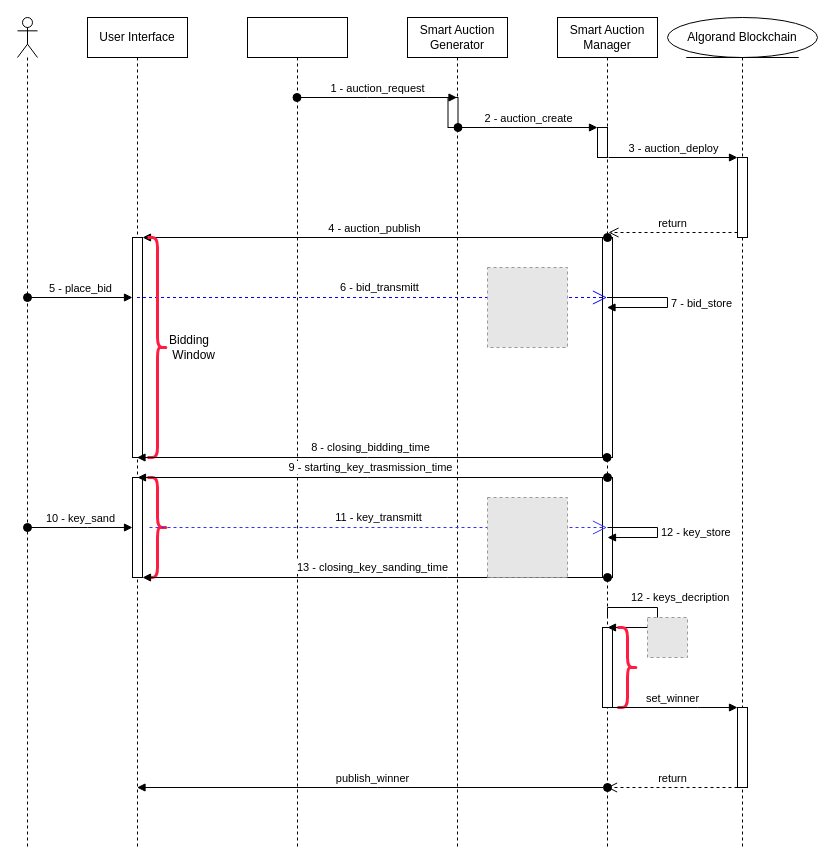
Image size: 835x865. Some labels were removed from this diagram. Grey dashed boxes stand in for pictures. Each missing label, with the centre of its shape:
Device Manager: pixel 297 432
Evaluation_time: pixel 627 667
Key sanding window: pixel 157 527
